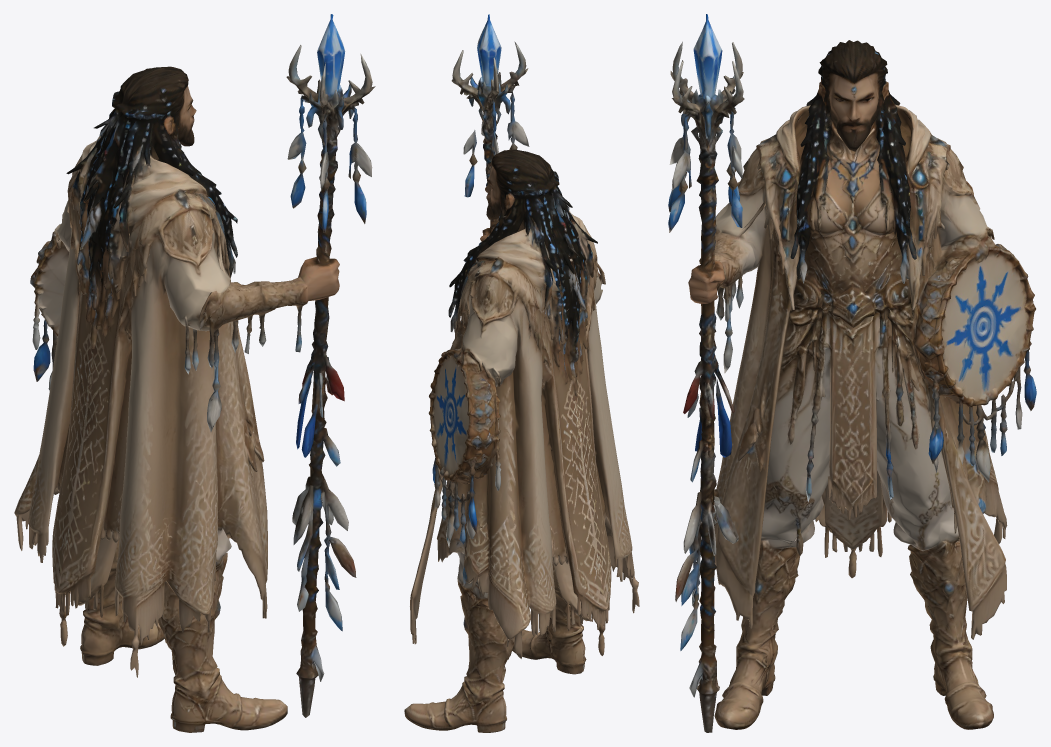
The model's file is drumcalleralt-MirageVeil-tripo.glb.
3 renders of one model, left to right at view 1: azimuth 30°, elevation 25°; view 2: azimuth 150°, elevation 25°; view 3: azimuth 270°, elevation 25°, orthographic. The views are drawn at different scales.
Visible parts, largest first — view 1: tripo_node_1916be23-41ee-40f9-b8a7-b6a4889e5adf; view 2: tripo_node_1916be23-41ee-40f9-b8a7-b6a4889e5adf; view 3: tripo_node_1916be23-41ee-40f9-b8a7-b6a4889e5adf.
Part boxes in pixels (<box>): tripo_node_1916be23-41ee-40f9-b8a7-b6a4889e5adf: <box>14,14,375,732</box>; tripo_node_1916be23-41ee-40f9-b8a7-b6a4889e5adf: <box>404,14,639,732</box>; tripo_node_1916be23-41ee-40f9-b8a7-b6a4889e5adf: <box>668,14,1036,732</box>.
Bounding box in the file's own units: 0.3451 × 1 × 0.4529.
1 material, 1 textured.
